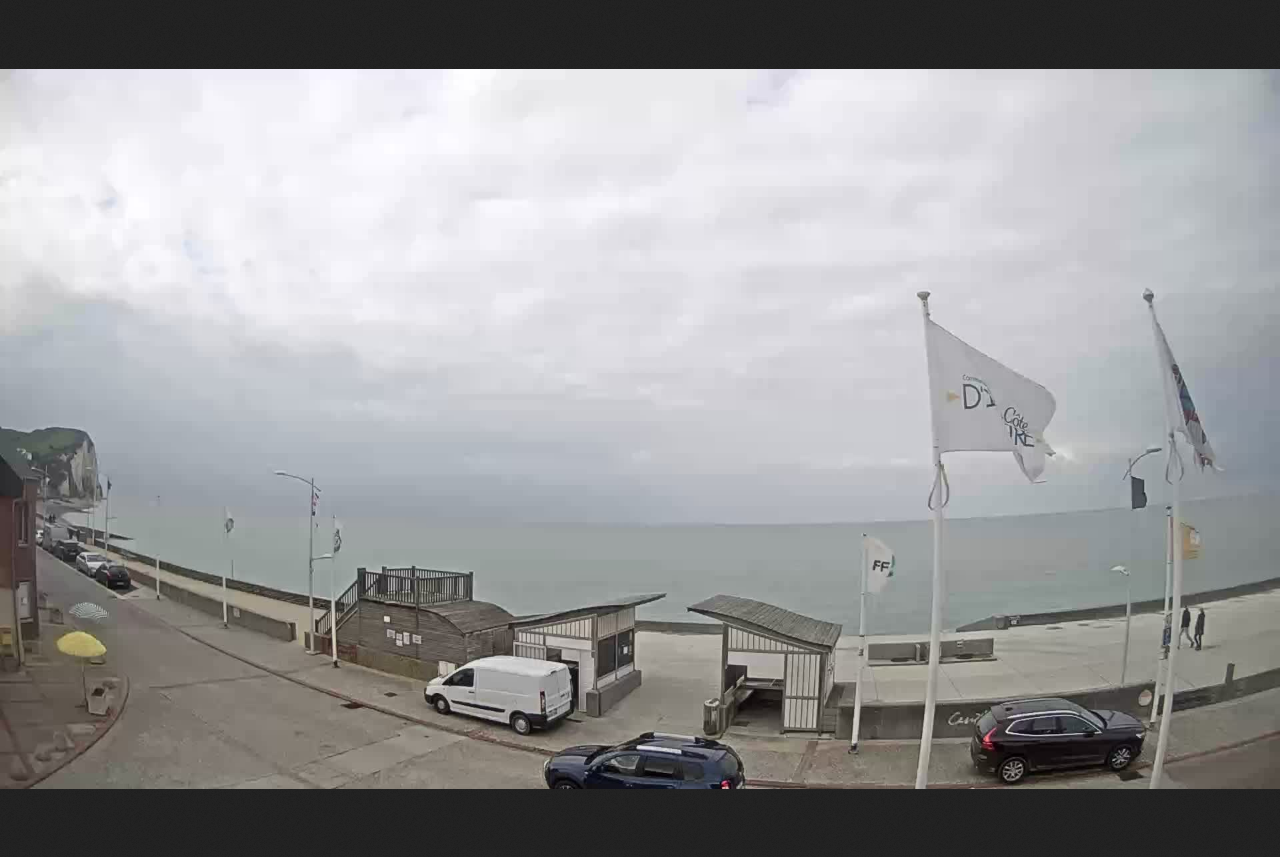maybe: (1155, 320, 1232, 479)
yes: (916, 313, 1063, 491), (858, 536, 897, 600), (1163, 515, 1205, 565)
